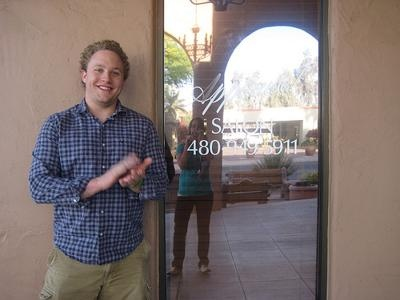person without safety: (27, 37, 173, 300)
